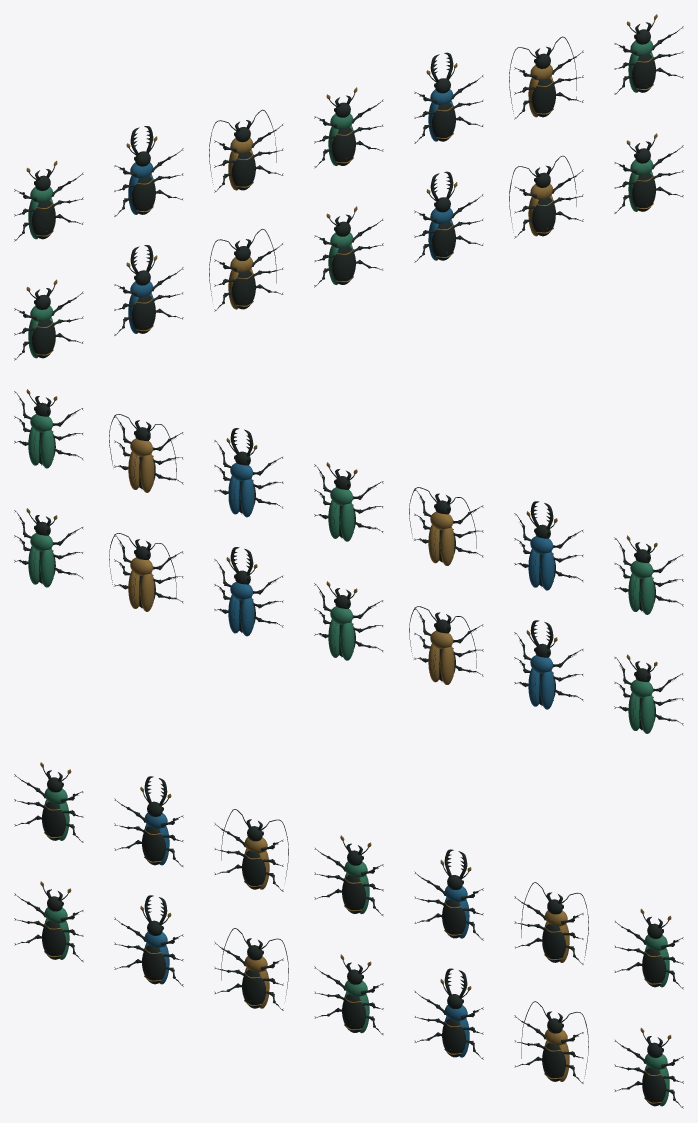
The picture shows the model from 3 angles, top to bottom: view 1: azimuth 30°, elevation 25°; view 2: azimuth 150°, elevation 25°; view 3: azimuth 330°, elevation 25°; orthographic projection.
Parts seen in each view (by area): view 1: B02_SPEC_Chitin_export; view 2: B02_SPEC_Chitin_export; view 3: B02_SPEC_Chitin_export.
Boxes of the visible parts, x1,y1,x2,y2 form: B02_SPEC_Chitin_export: [14, 14, 683, 360]; B02_SPEC_Chitin_export: [14, 389, 683, 733]; B02_SPEC_Chitin_export: [14, 762, 683, 1108].
Size of the model in its own units: 4.89 by 1.43 by 0.1542.
